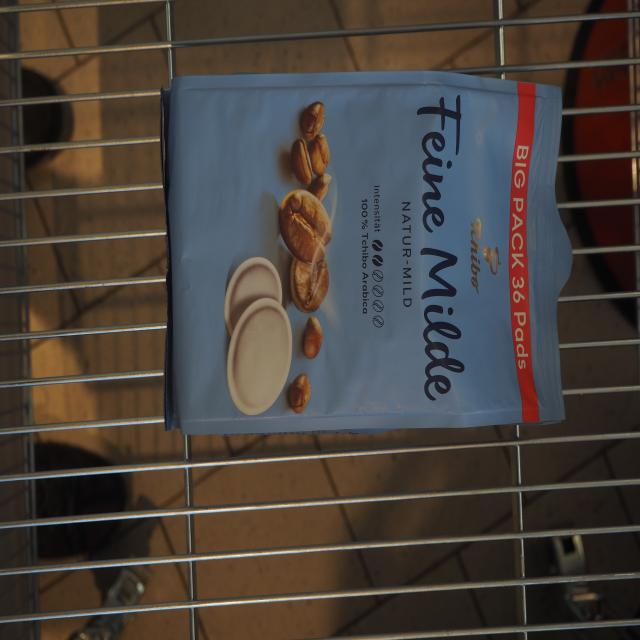FM 36 Pads: (156, 68, 581, 444)
